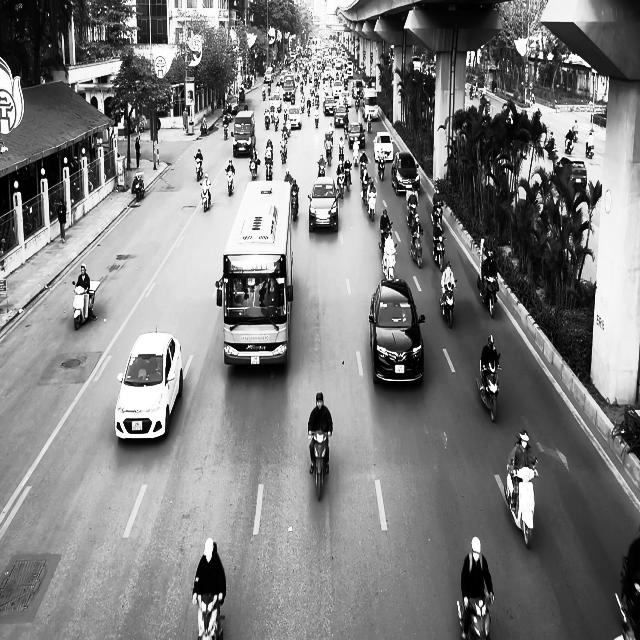bus: (216, 179, 294, 367)
car: (114, 328, 183, 441), (368, 277, 426, 384), (307, 175, 339, 232), (391, 151, 420, 195), (554, 156, 588, 192), (373, 131, 394, 162), (348, 122, 365, 149), (286, 104, 302, 129)
motorbike: (504, 457, 538, 549), (475, 358, 501, 422), (457, 594, 493, 640), (308, 430, 330, 501), (72, 279, 100, 330), (196, 592, 224, 640), (478, 272, 498, 318), (439, 282, 457, 328), (382, 242, 398, 280), (409, 229, 424, 268), (432, 233, 446, 271), (200, 183, 211, 212), (291, 186, 299, 220), (134, 174, 144, 200), (249, 157, 260, 180), (225, 168, 234, 195), (194, 156, 203, 182), (264, 157, 273, 180), (585, 136, 594, 158), (564, 135, 574, 154), (378, 156, 385, 181), (200, 119, 208, 136)
